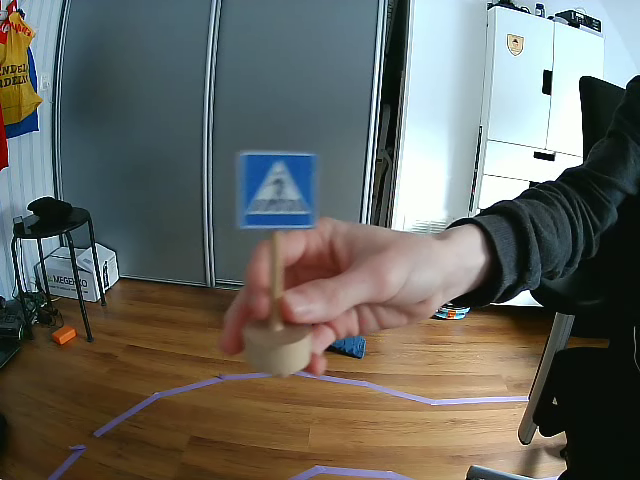zebrapad: (238, 153, 316, 232)
